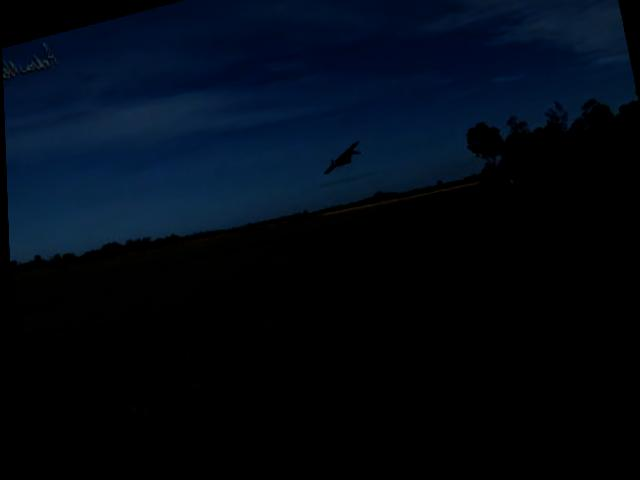uav: (313, 139, 368, 191)
